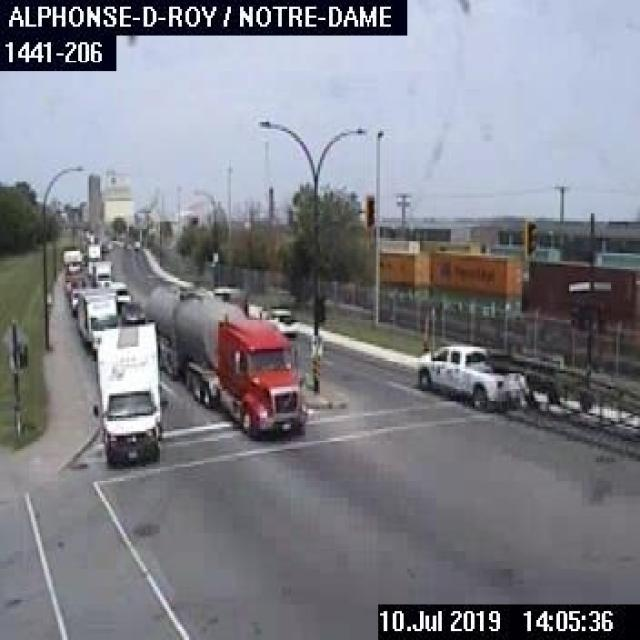vehicle: (138, 281, 305, 444), (413, 340, 637, 456), (93, 321, 164, 468), (73, 288, 119, 356), (68, 285, 90, 315), (90, 258, 111, 286), (119, 302, 144, 324), (108, 280, 131, 301)
